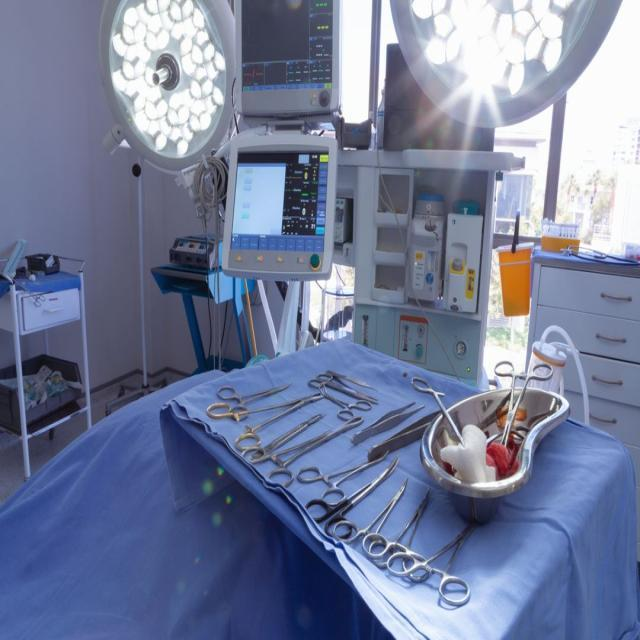Monitor: (218, 125, 346, 294), (232, 0, 347, 129)
tools_table: (151, 326, 640, 640), (2, 234, 96, 488)
